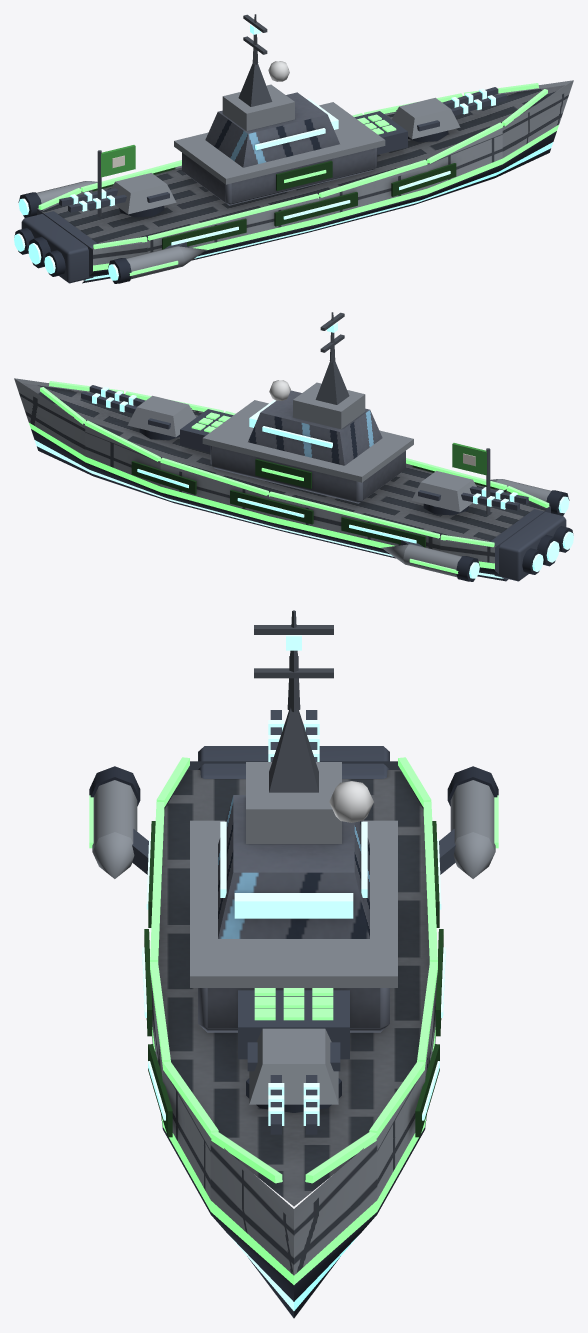
The model's file is cruiser_scifi_green.glb.
3 renders of one model, top to bottom at view 1: azimuth 30°, elevation 25°; view 2: azimuth 150°, elevation 25°; view 3: azimuth 270°, elevation 25°, orthographic. The views are drawn at different scales.
Parts seen in each view (by area): view 1: cruiser_scifi_green; view 2: cruiser_scifi_green; view 3: cruiser_scifi_green.
Boxes of the visible parts, x1,y1,x2,y2 form: cruiser_scifi_green: [14, 14, 573, 283]; cruiser_scifi_green: [14, 312, 573, 581]; cruiser_scifi_green: [89, 610, 498, 1318].
Bounding box in the file's own units: 0.78 × 0.29 × 0.256.
Materials: 3 (1 with a texture image).
